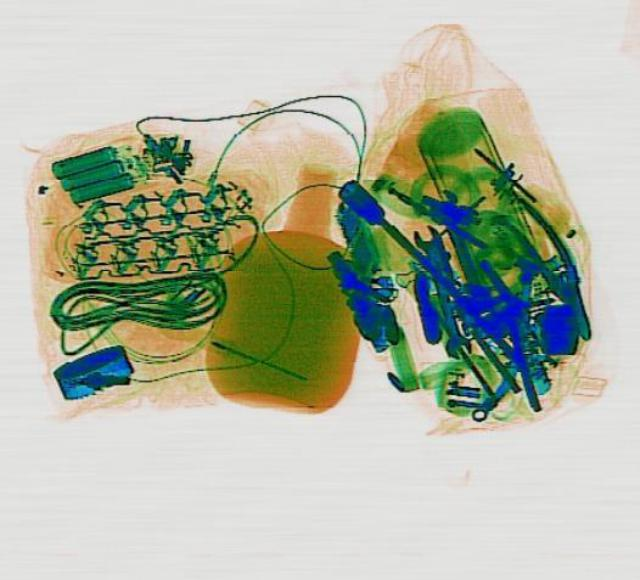Pliers: (491, 190, 615, 344)
Wrench: (406, 222, 476, 358)
